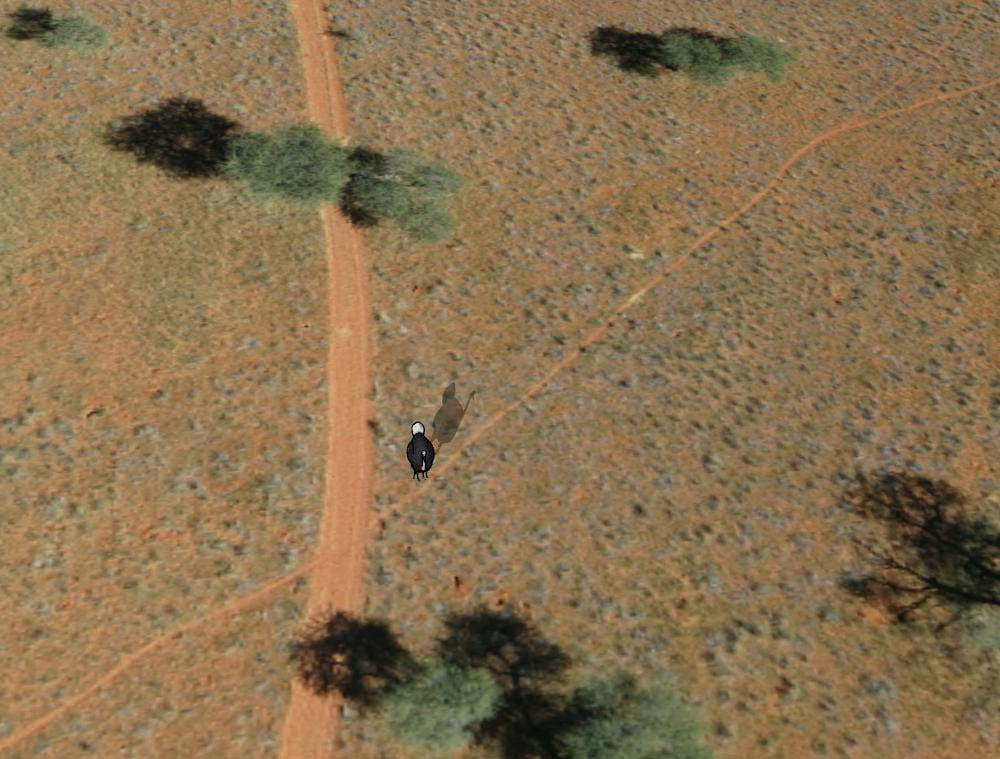ostrich: (400, 420, 439, 485)
